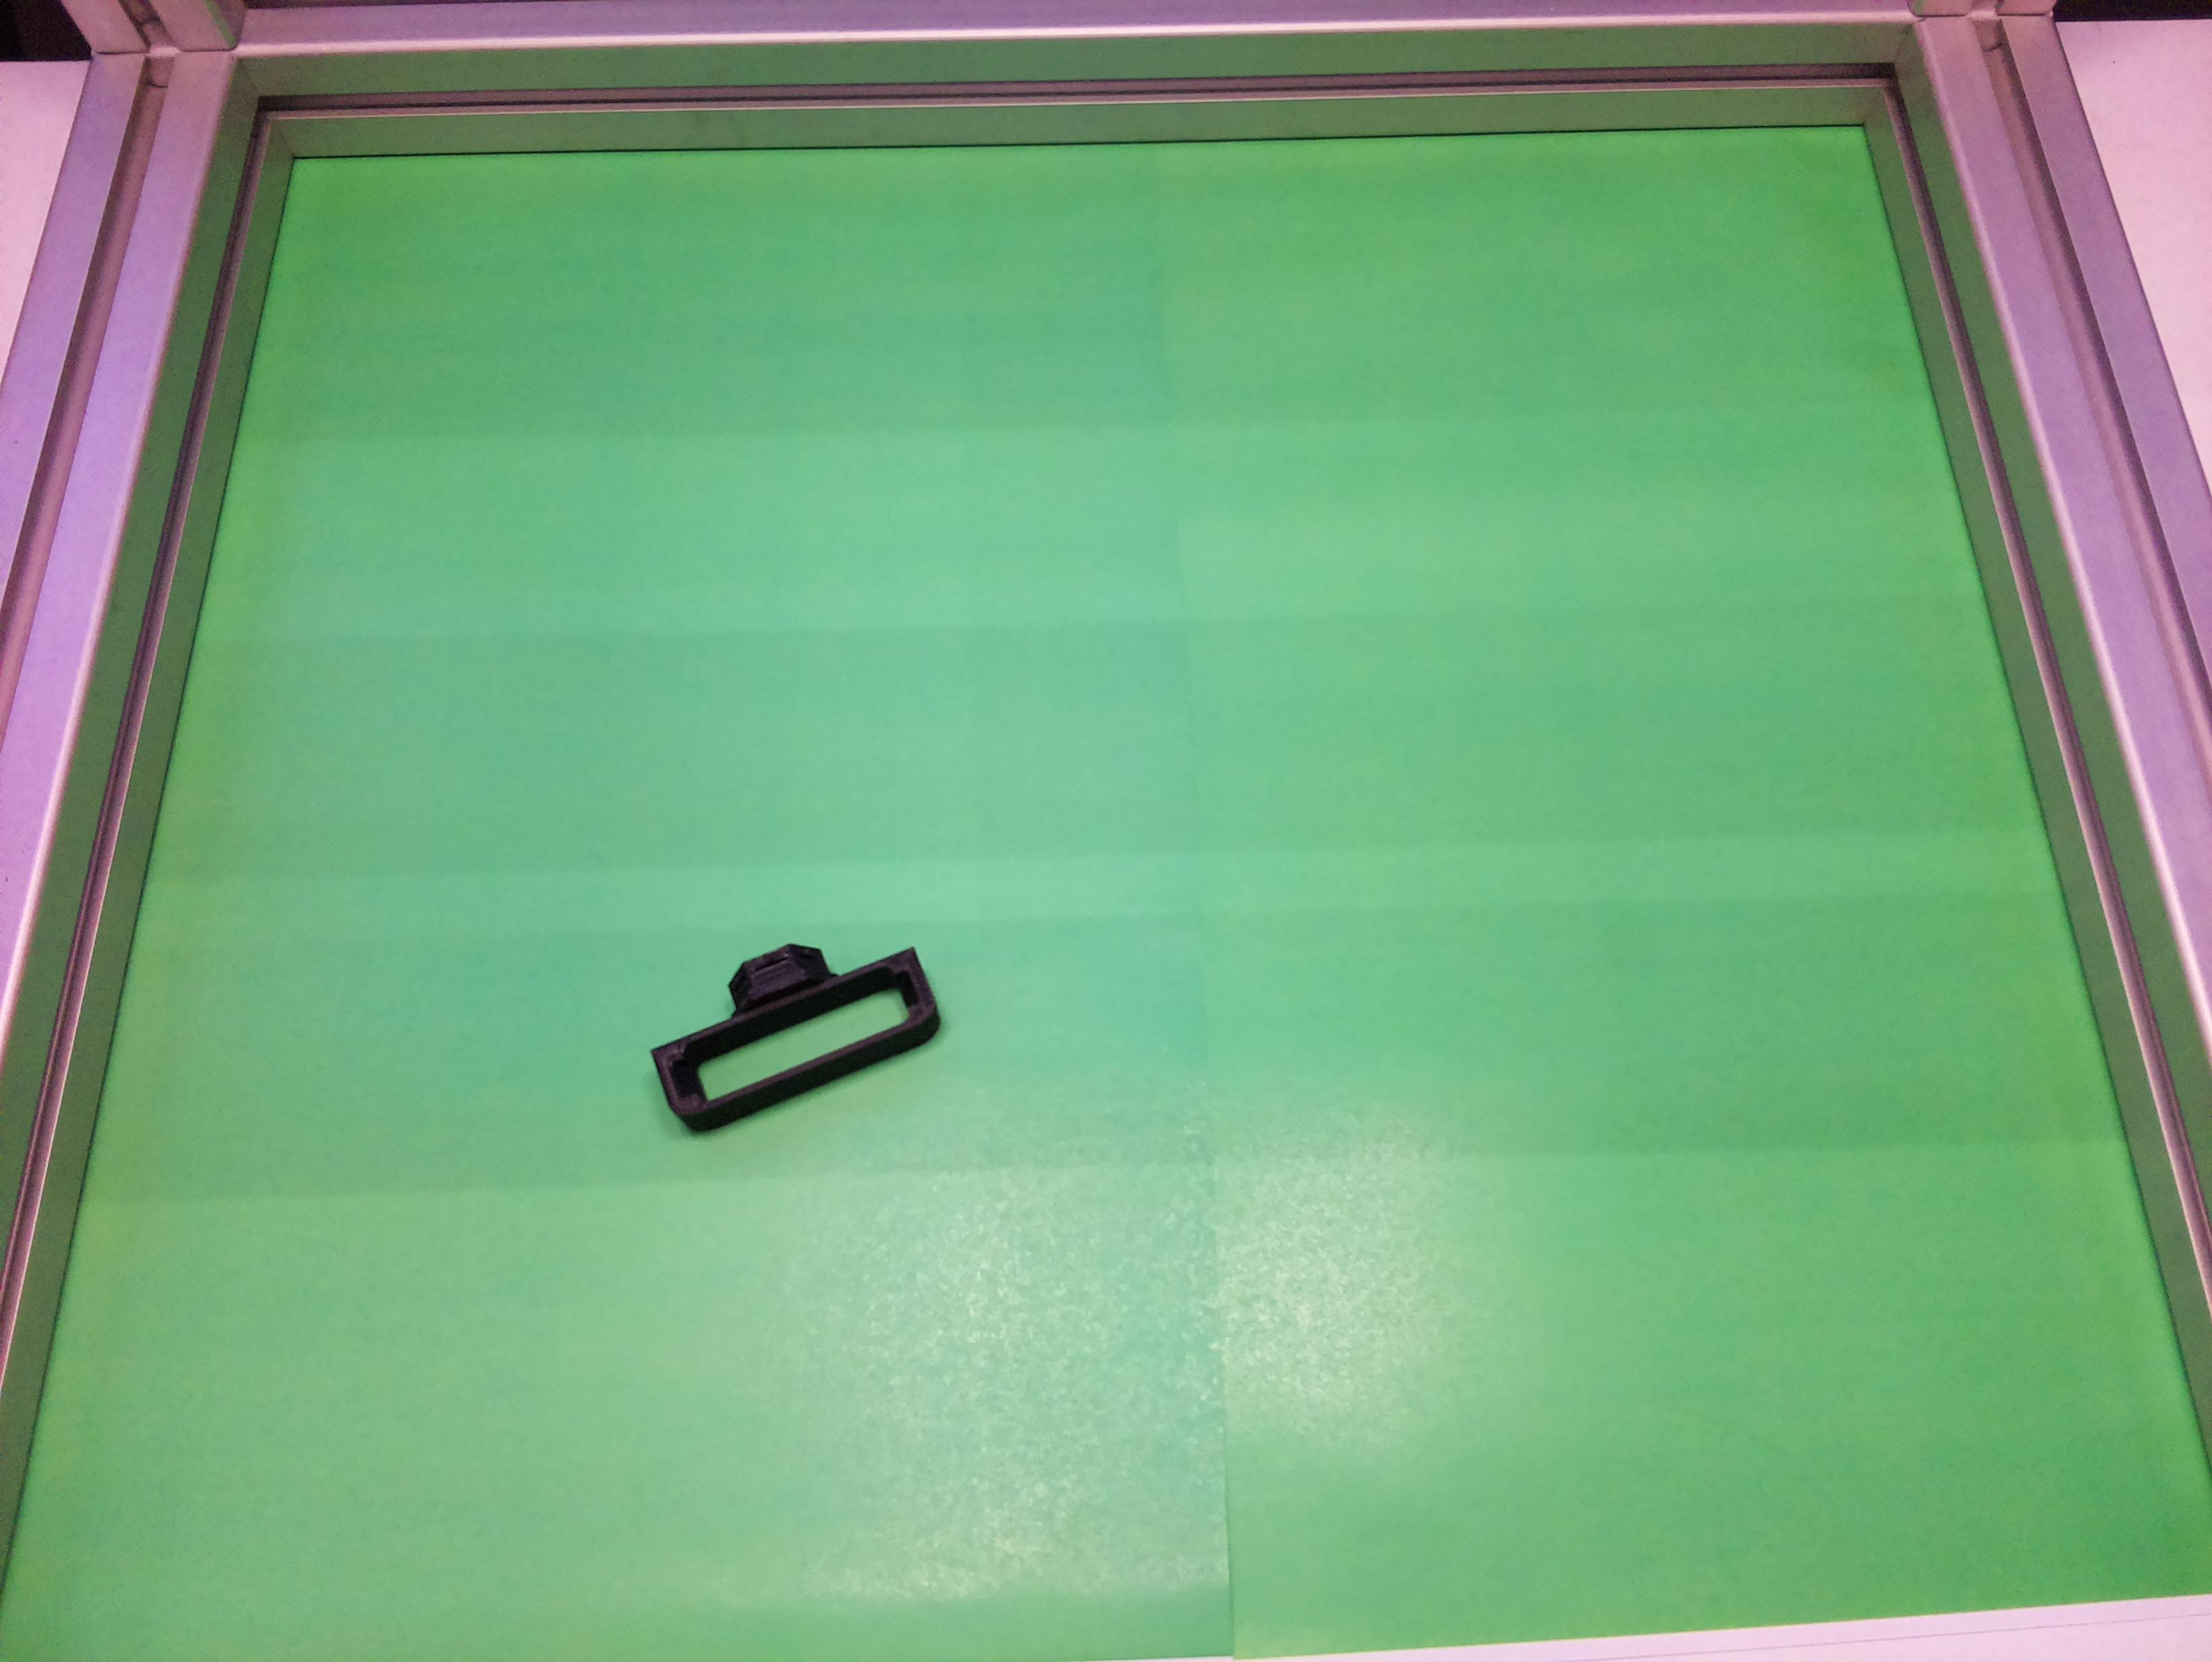cutter_holder: (630, 901, 950, 1142)
